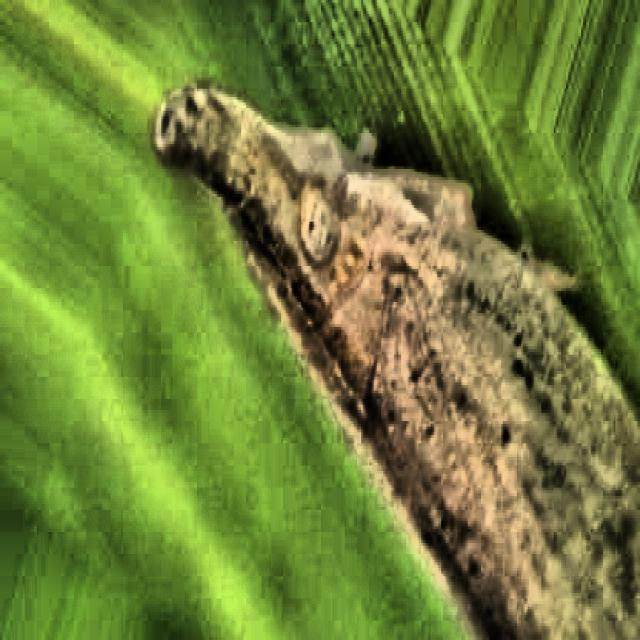Pyrilla-perpusilla: (120, 61, 640, 640)
